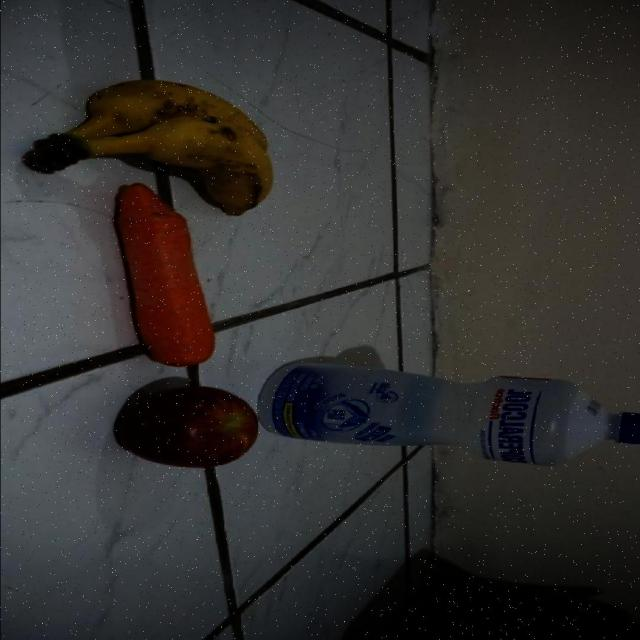AlcoholBottle: (256, 356, 640, 467)
Apple: (105, 384, 256, 470)
Banana: (12, 65, 285, 190)
Carrot: (73, 191, 217, 369)
